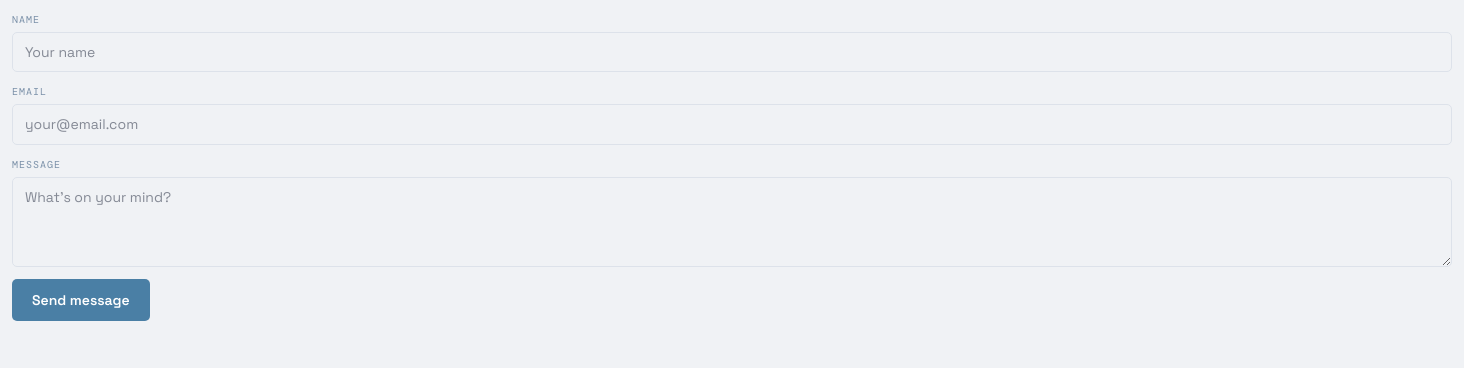
Test: ContactForm › form submission › shows a success message after a successful submission
Type "Andrew" into the field labelled "Name".
click(732, 52); type("Andrew")  # box 12,32 -> 1452,72
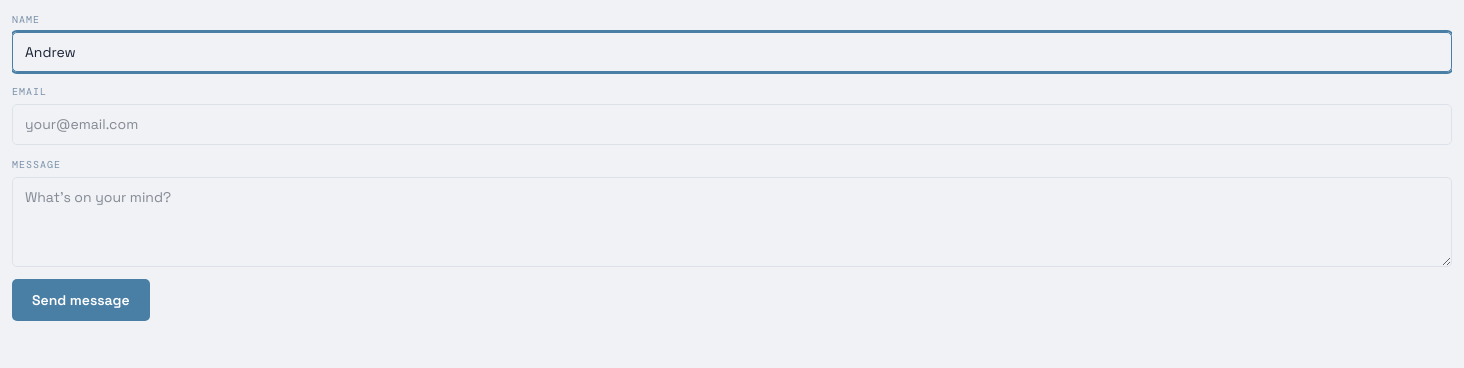
Type "andrew@example.org" into the field labelled "Email".
click(732, 125); type("andrew@example.org")  # box 12,104 -> 1452,145
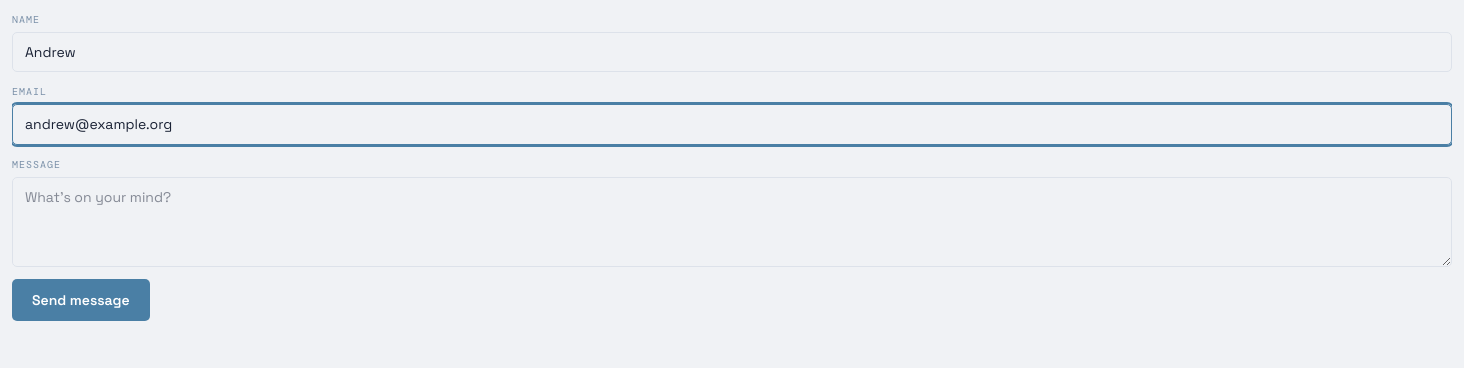
Type "Hello this is a test message" into the text box labelled "Message".
click(732, 222); type("Hello this is a test message")  # box 12,177 -> 1452,267
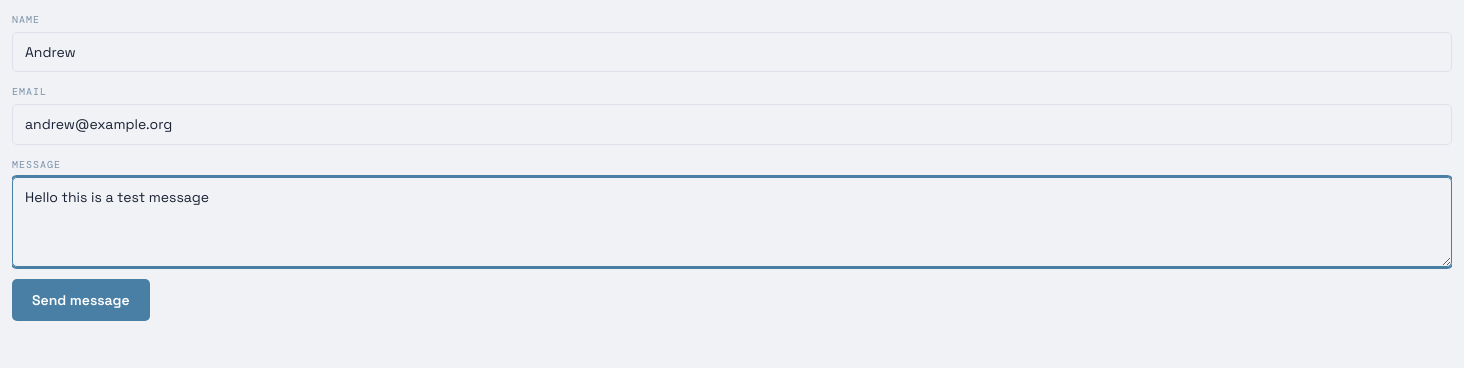
Click the button "Send message".
click(81, 300)  # box 12,279 -> 150,321
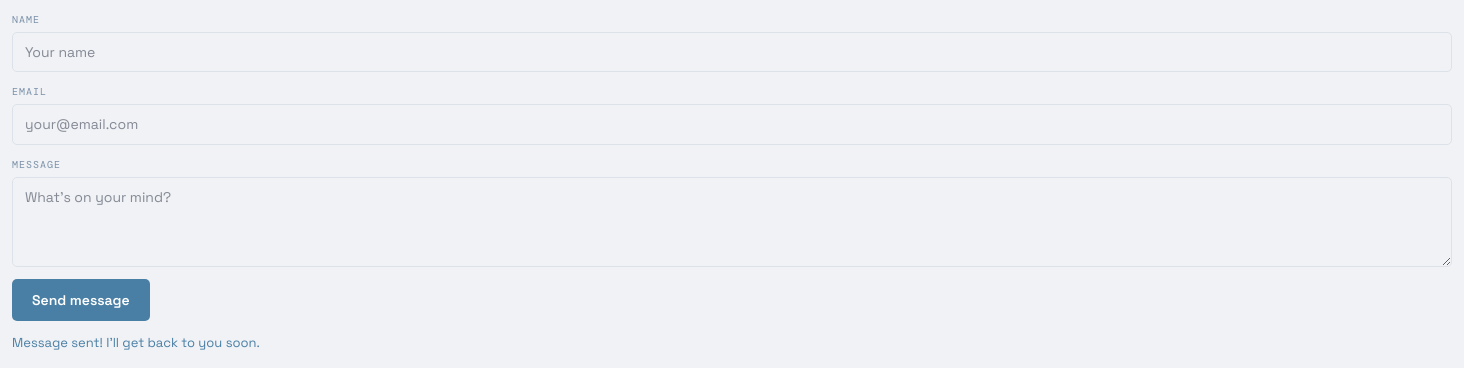
Check: the text "Message sent! I'll get back to you soon." is shown, box 12,334 -> 260,351
